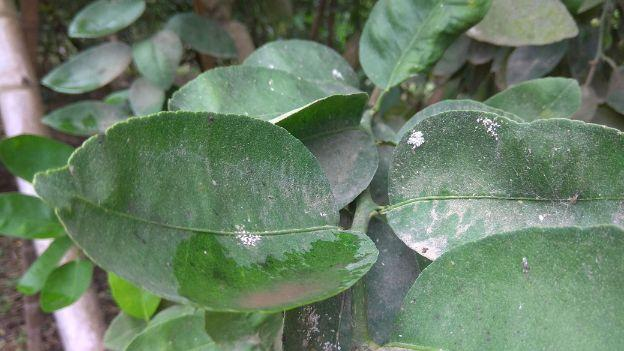Myzus persicae: (477, 117, 499, 139), (407, 131, 424, 148), (236, 233, 260, 245)
